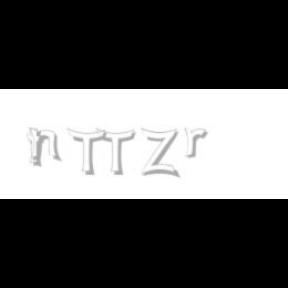T: (66, 128, 106, 176), (95, 128, 135, 176)
Z: (142, 128, 179, 178)
n: (28, 128, 62, 162)
r: (184, 128, 210, 158)
t: (27, 128, 49, 168)
